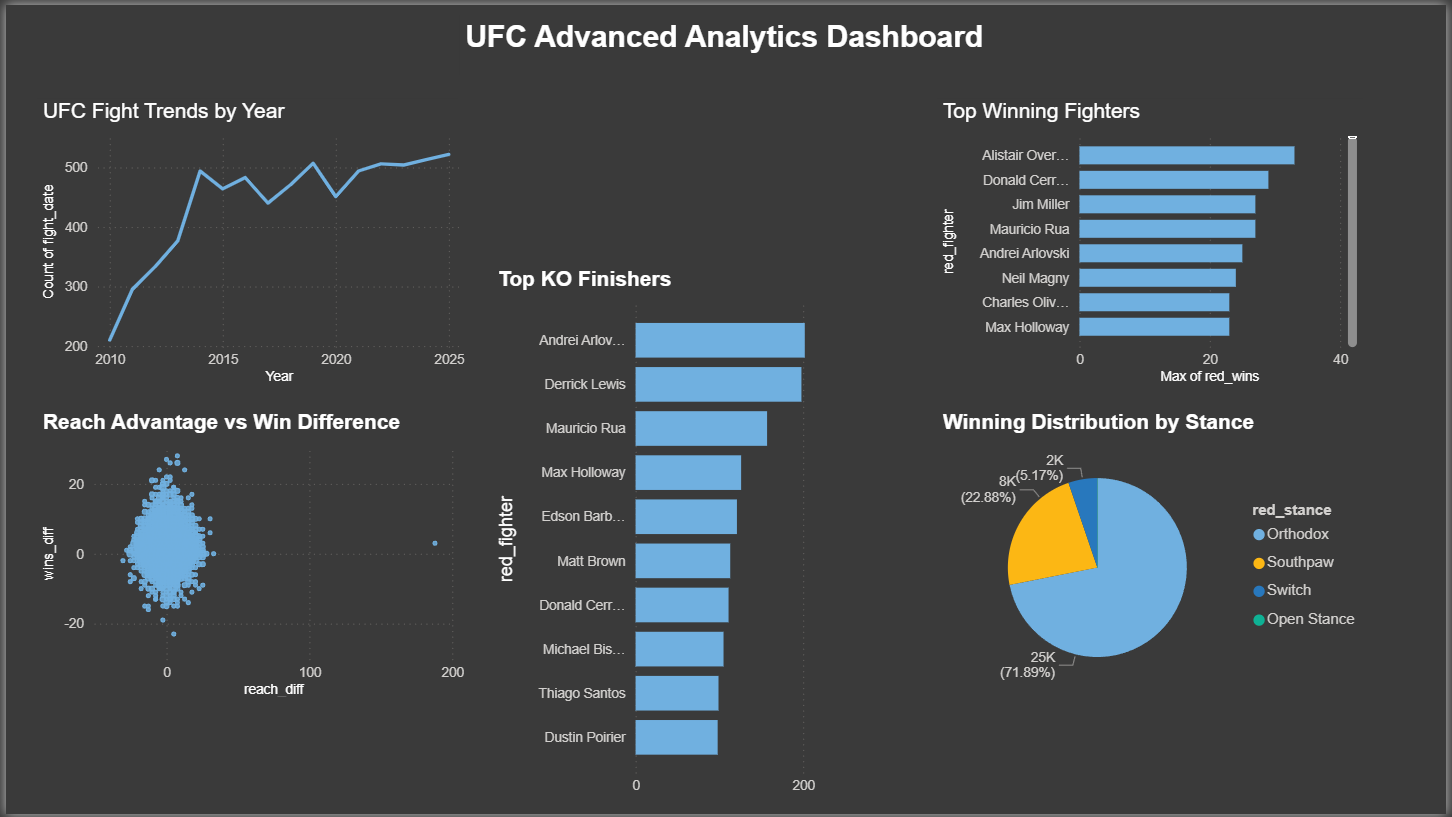

Layout of this report page (visuals, bound fields, positions):
{"tool":"powerbi","page":{"name":"UFC Advanced Analytics","canvas":[1280,720],"ordinal":1},"visuals":[{"type":"lineChart","title":"UFC Fight Trends by Year","fields":{"Category":["all_fights.fight_date.Variation.Date Hierarchy.Year"],"Y":["CountNonNull(all_fights.fight_date)"]},"box":[28.2,83.6,385,258.6],"z":0},{"type":"barChart","title":"Top Winning Fighters","fields":{"Category":["all_fights.red_fighter"],"Y":["Max(all_fights.red_wins)"]},"box":[827.7,83.6,378.3,258.6],"z":1000},{"type":"scatterChart","title":"Reach Advantage vs Win Difference","fields":{"X":["all_fights.reach_diff"],"Size":["CountNonNull(all_fights.red_winner)"],"Y":["all_fights.wins_diff"]},"box":[28.2,360.2,385,259.7],"z":2000},{"type":"pieChart","title":"Winning Distribution by Stance","fields":{"Category":["all_fights.red_stance"],"Y":["Sum(all_fights.red_wins)"]},"box":[827.7,360.2,385,259.7],"z":3000},{"type":"clusteredBarChart","title":"Top KO Finishers","fields":{"Y":["Sum(all_fights.red_wins_by_ko)"],"Category":["all_fights.red_fighter"]},"box":[432.5,233.7,367,476.5],"z":4000},{"type":"textbox","box":[403.1,9,475.4,53.1],"z":5000}]}

Visuals, with their boxes in screenshot pixels (x1, y1, x2, y2), scaled from the page's 1280x720 canvas onto the 1452x817 screenshot:
"UFC Fight Trends by Year" lineChart: left=32, top=95, right=469, bottom=388
"Top Winning Fighters" barChart: left=939, top=95, right=1368, bottom=388
"Reach Advantage vs Win Difference" scatterChart: left=32, top=409, right=469, bottom=703
"Winning Distribution by Stance" pieChart: left=939, top=409, right=1376, bottom=703
"Top KO Finishers" clusteredBarChart: left=491, top=265, right=907, bottom=806
textbox: left=457, top=10, right=997, bottom=70
